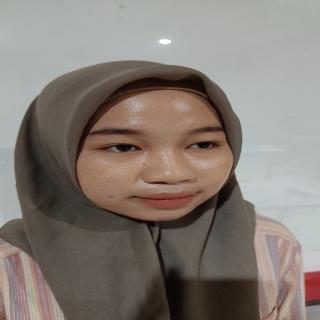Netral: (80, 79, 247, 230)
